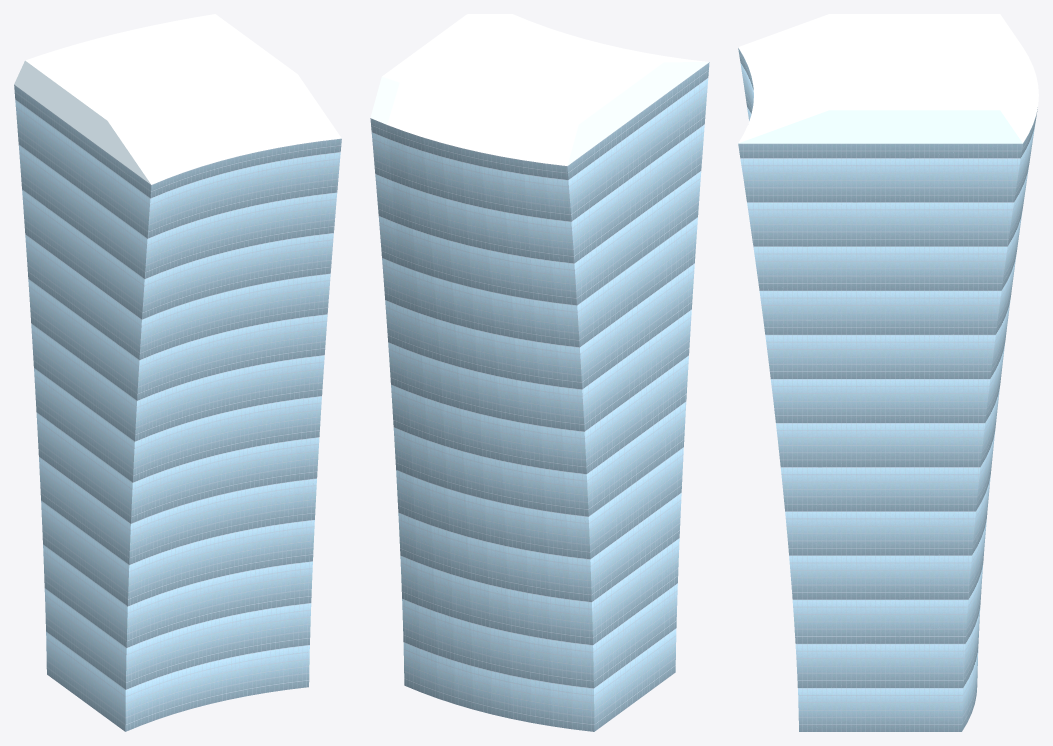
File: walkie_talkie.glb
3 renders of one model, left to right at view 1: azimuth 30°, elevation 25°; view 2: azimuth 150°, elevation 25°; view 3: azimuth 270°, elevation 25°, orthographic. The views are drawn at different scales.
Visible parts, largest first — view 1: Band, SkyGarden; view 2: Band, SkyGarden; view 3: Band, SkyGarden.
Boxes of the visible parts, x1,y1,x2,y2 form: Band: [14, 84, 341, 731]; SkyGarden: [14, 14, 341, 184]; Band: [370, 62, 709, 731]; SkyGarden: [370, 14, 708, 165]; Band: [738, 48, 1037, 731]; SkyGarden: [738, 14, 1038, 143].
Size of the model in its own units: 56 by 169 by 73.92.
2 materials, 1 textured.
